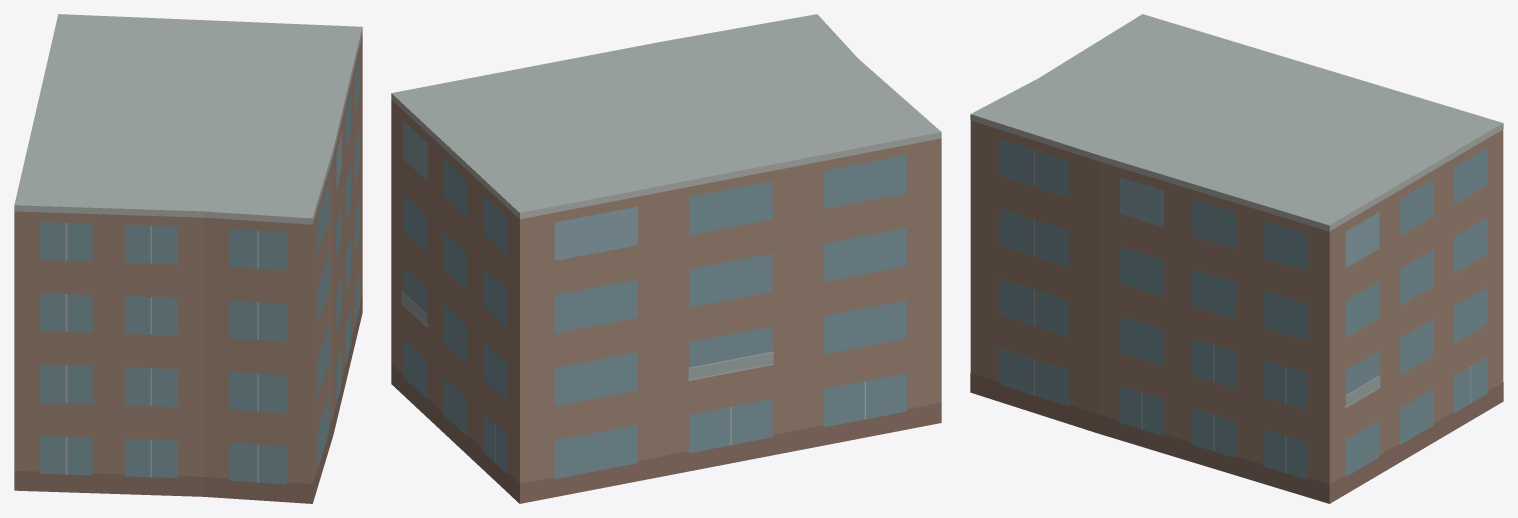
Rendered from survey-upis-32860723.glb.
3 views of the same model, side by side, from view 1: azimuth 30°, elevation 25°; view 2: azimuth 150°, elevation 25°; view 3: azimuth 270°, elevation 25° (orthographic). The views are drawn at different scales.
Parts seen in each view (by area): view 1: survey-upis-32860723.tmp; view 2: survey-upis-32860723.tmp; view 3: survey-upis-32860723.tmp.
Part boxes in pixels (x1,y1,x2,y2): survey-upis-32860723.tmp: (14, 14, 362, 503); survey-upis-32860723.tmp: (391, 14, 941, 503); survey-upis-32860723.tmp: (970, 14, 1503, 503).
Size of the model in its own units: 18.33 by 11.25 by 19.53.
